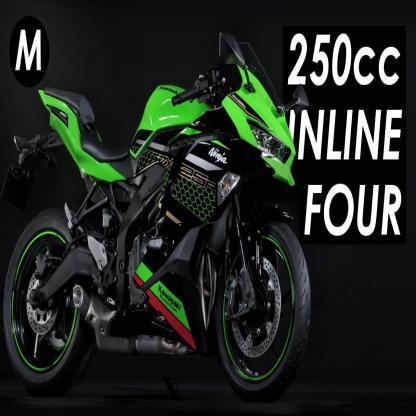Motorcycle: (2, 25, 314, 397)
